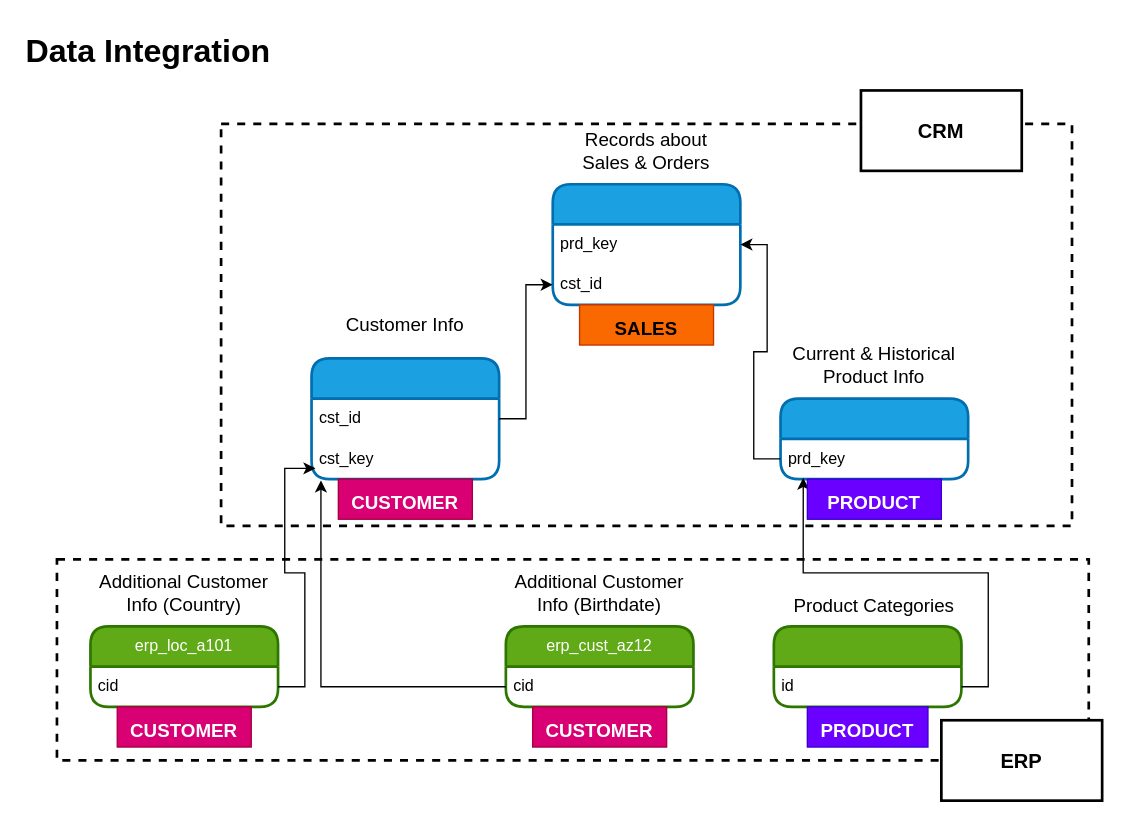
This 1126x824 diagram has some shape labels left out. Here are the shapes that lost their labels. From the top down, the box of each, then its label:
(551, 182, 741, 306): crm_sales_details
(310, 356, 500, 480): crm_cust_info
(779, 397, 969, 480): crm_prd_info
(772, 624, 962, 708): px_cat_g1v2
